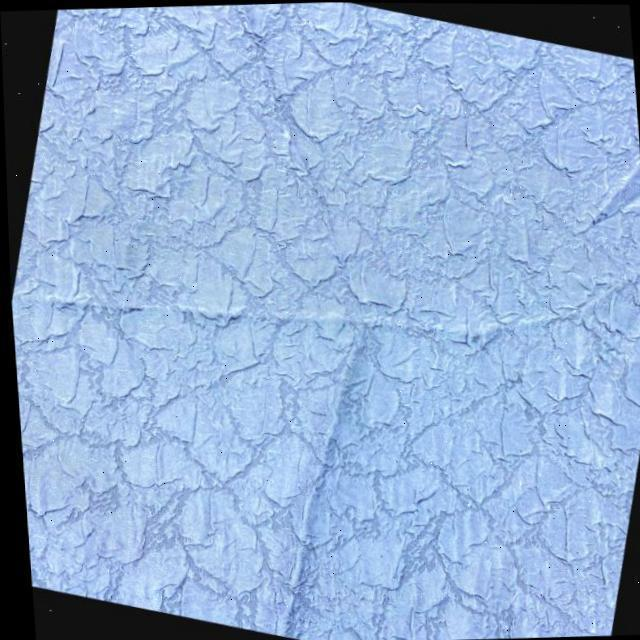broken_yarn: (267, 320, 360, 630), (15, 297, 557, 344)
